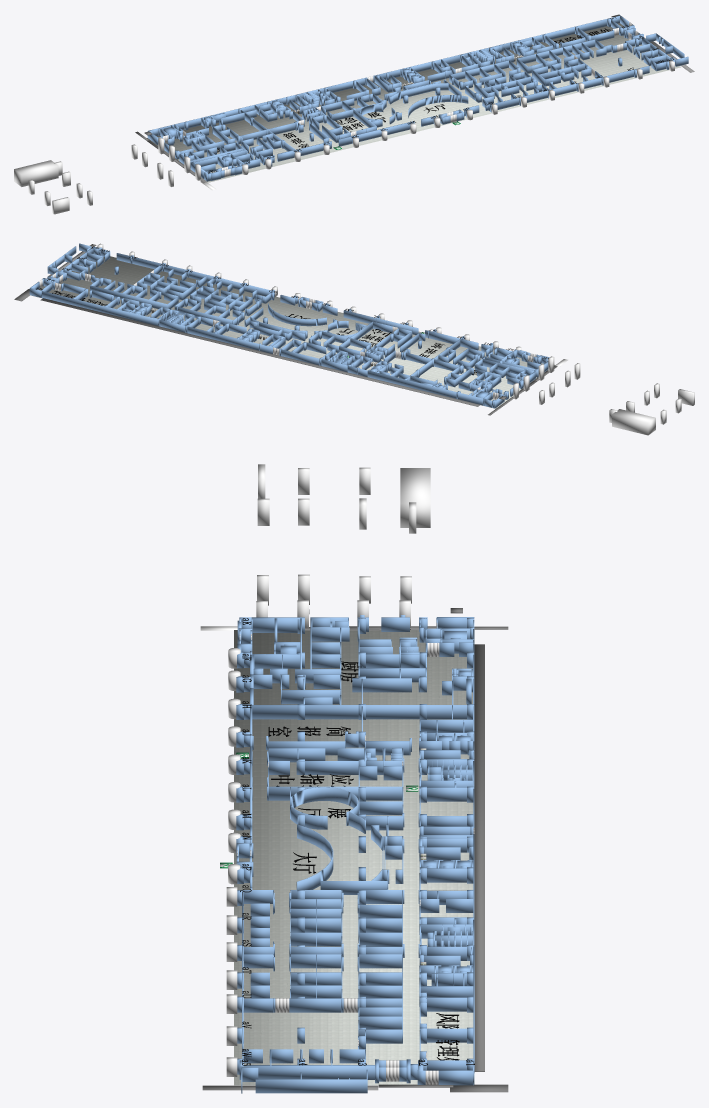
Rendered from ob_1f_mini.gltf.
3 views of the same model, one above another, from view 1: azimuth 30°, elevation 25°; view 2: azimuth 150°, elevation 25°; view 3: azimuth 270°, elevation 25° (orthographic). The views are drawn at different scales.
Parts seen in each view (by area): view 1: ob_dimian_1f, ob_qiang_1f_18, ob_waiguan_1f_7, ob_qiang_1f_121, ob_qiang_1f_26, ob_qiang_1f_168, ob_qiang_1f_1, ob_qiang_1f_319, ob_qiang_1f_641, ob_qiang_1f_4, ob_qiang_1f_249; view 2: ob_dimian_1f, ob_waiguan_1f_3, ob_qiang_1f_18, ob_qiang_1f_121, ob_qiang_1f_641, ob_waiguan_1f_7, ob_qiang_1f_319, ob_qiang_1f_26, ob_qiang_1f_1, ob_qiang_1f_168, ob_qiang_1f_249; view 3: ob_dimian_1f, ob_waiguan_1f_3, ob_qiang_1f_523, ob_qiang_1f_52, ob_qiang_1f_42, ob_waiguan_1f_7, ob_qiang_1f_346, ob_qiang_1f_2, ob_qiang_1f_1.
Part boxes in pixels (x1,y1,x2,y2): ob_dimian_1f: [147, 23, 680, 182]; ob_qiang_1f_18: [493, 66, 649, 109]; ob_waiguan_1f_7: [14, 160, 58, 186]; ob_qiang_1f_121: [490, 18, 607, 51]; ob_qiang_1f_26: [338, 121, 414, 146]; ob_qiang_1f_168: [516, 39, 595, 65]; ob_qiang_1f_1: [408, 95, 468, 117]; ob_qiang_1f_319: [373, 54, 460, 82]; ob_qiang_1f_641: [160, 99, 276, 130]; ob_qiang_1f_4: [390, 83, 448, 103]; ob_qiang_1f_249: [450, 60, 508, 79]; ob_dimian_1f: [32, 256, 555, 408]; ob_waiguan_1f_3: [40, 298, 480, 406]; ob_qiang_1f_18: [116, 253, 271, 296]; ob_qiang_1f_121: [42, 291, 157, 325]; ob_qiang_1f_641: [367, 370, 482, 405]; ob_waiguan_1f_7: [612, 409, 655, 435]; ob_qiang_1f_319: [187, 326, 272, 353]; ob_qiang_1f_26: [343, 310, 418, 334]; ob_qiang_1f_1: [268, 303, 326, 326]; ob_qiang_1f_168: [90, 285, 167, 308]; ob_qiang_1f_249: [174, 306, 232, 324]; ob_dimian_1f: [234, 630, 474, 1085]; ob_waiguan_1f_3: [474, 644, 484, 1071]; ob_qiang_1f_523: [251, 705, 466, 719]; ob_qiang_1f_52: [239, 1065, 374, 1079]; ob_qiang_1f_42: [255, 1079, 367, 1093]; ob_waiguan_1f_7: [400, 468, 430, 527]; ob_qiang_1f_346: [269, 786, 402, 800]; ob_qiang_1f_2: [290, 787, 358, 825]; ob_qiang_1f_1: [296, 824, 333, 889].
Size of the model in its own units: 388 by 8.31 by 83.42.
Materials: 15 (5 with a texture image).
